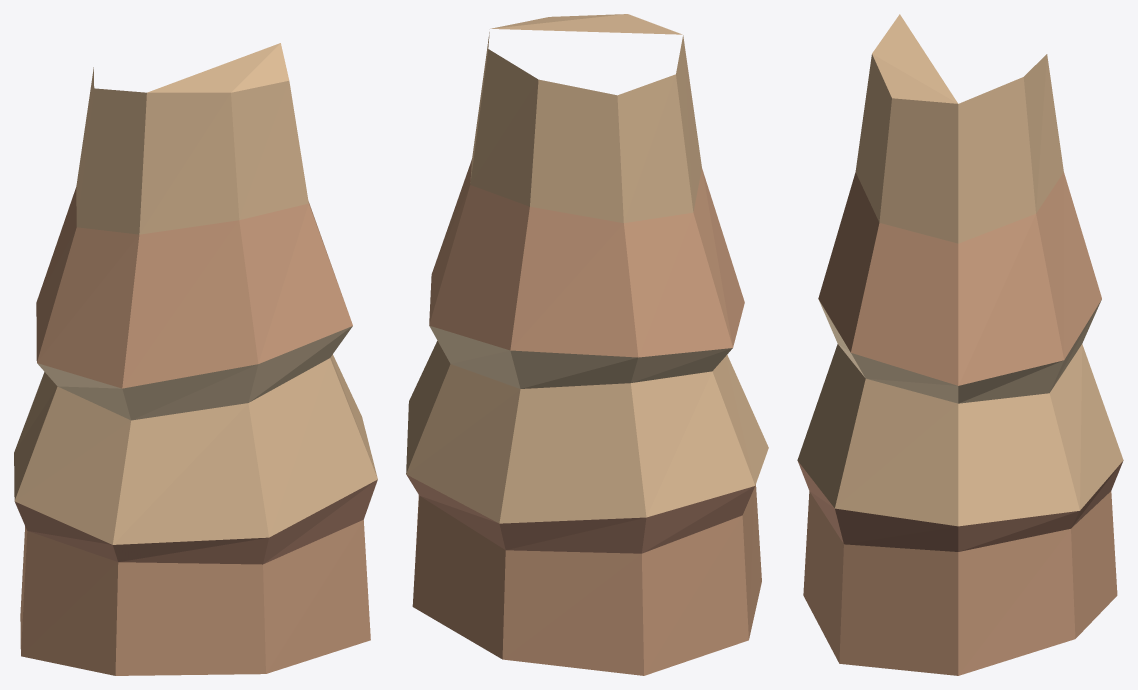
3 views of the same model, side by side, from view 1: azimuth 30°, elevation 25°; view 2: azimuth 150°, elevation 25°; view 3: azimuth 270°, elevation 25° (orthographic). The views are drawn at different scales.
Bounding box in the file's own units: 12.96 × 20.39 × 10.8.
